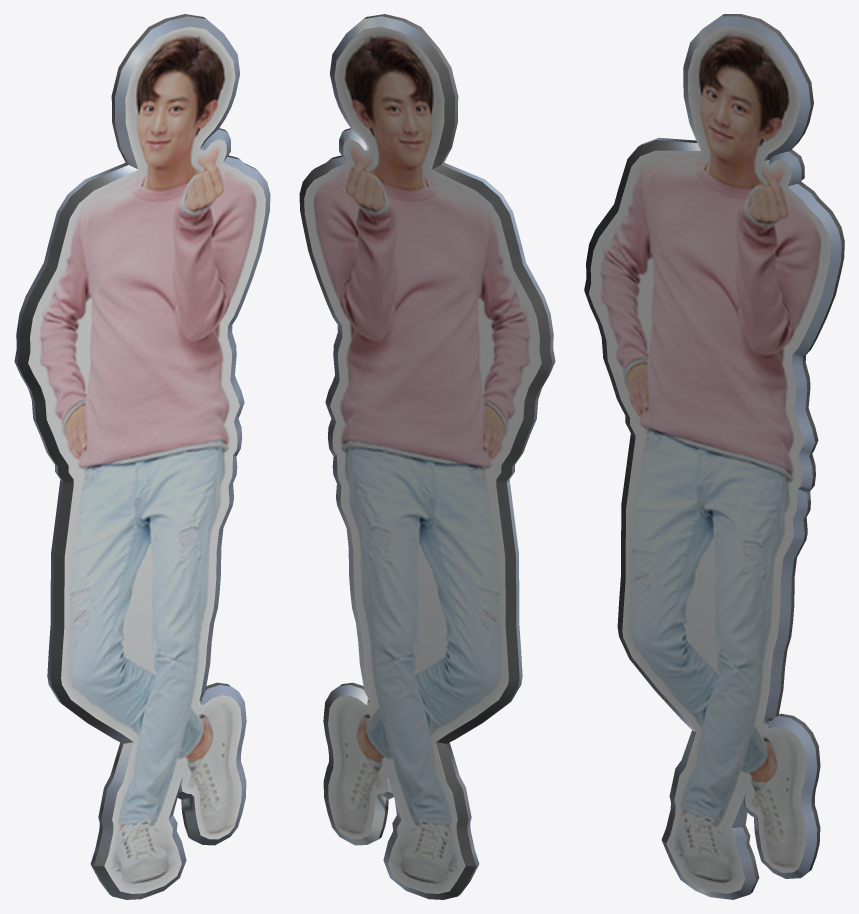
File: panel_exok_4.FBX
3 renders of one model, left to right at view 1: azimuth 30°, elevation 25°; view 2: azimuth 150°, elevation 25°; view 3: azimuth 330°, elevation 25°, orthographic.
Visible parts, largest first — view 1: panel_exok_4; view 2: panel_exok_4; view 3: panel_exok_4.
Part boxes in pixels (box(x1,y1,x2,y2)): panel_exok_4: box(14, 14, 270, 899); panel_exok_4: box(299, 14, 555, 899); panel_exok_4: box(584, 14, 844, 899).
Size of the model in its own units: 63.21 by 208 by 3.93.
Materials: 2 (2 with a texture image).
